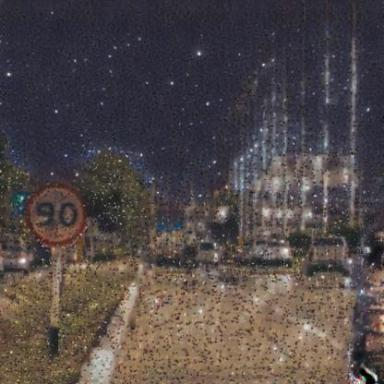Speed_limit_90: (28, 182, 88, 248)
